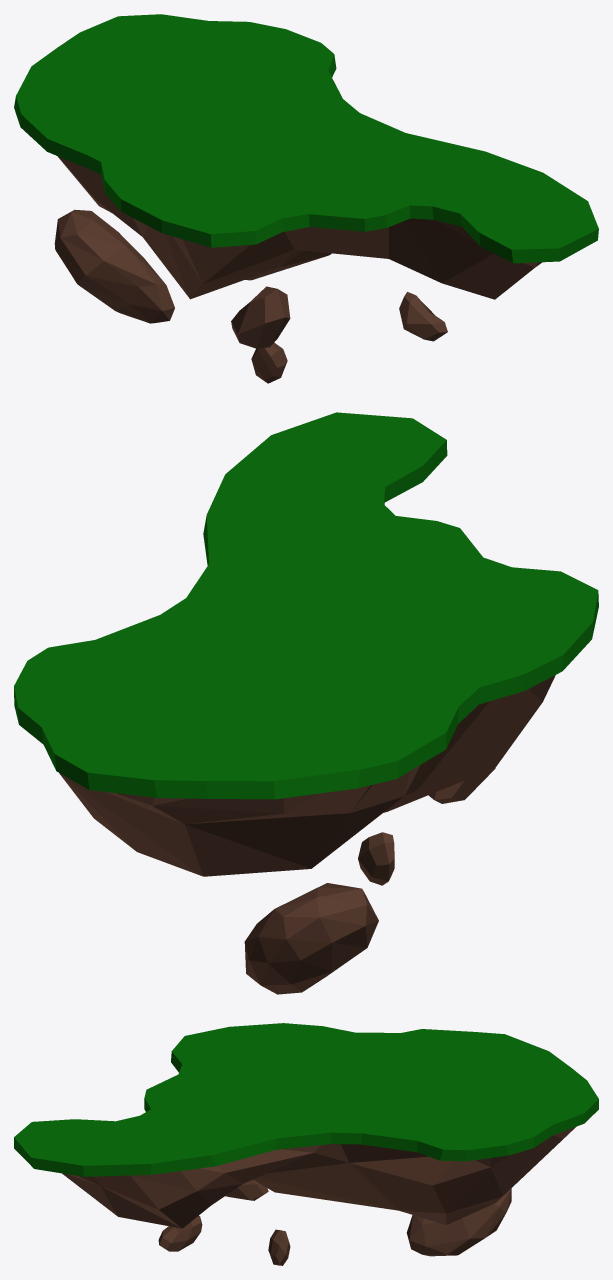
File: island_with_light_tower.glb
3 renders of one model, top to bottom at view 1: azimuth 30°, elevation 25°; view 2: azimuth 150°, elevation 25°; view 3: azimuth 270°, elevation 25°, orthographic. The views are drawn at different scales.
Parts seen in each view (by area): view 1: Cube, Icosphere.001; view 2: Cube, Icosphere.001; view 3: Cube, Icosphere.001.
Boxes of the visible parts, <box> form: Cube: <box>14,14,598,263</box>; Icosphere.001: <box>54,156,541,383</box>; Cube: <box>14,412,598,799</box>; Icosphere.001: <box>59,675,555,994</box>; Cube: <box>14,1023,598,1176</box>; Icosphere.001: <box>62,1127,575,1265</box>.
Bounding box in the file's own units: 190 × 113 × 328.
